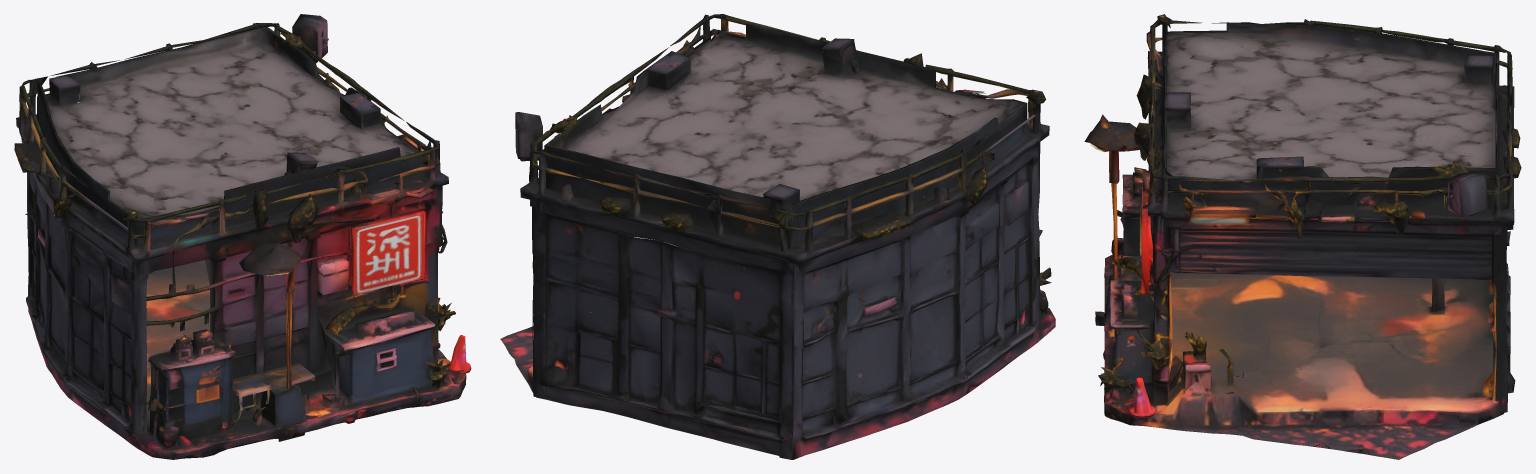
Rendered from 01_garage_shell-clearance.glb.
The picture shows the model from 3 angles, left to right: view 1: azimuth 30°, elevation 25°; view 2: azimuth 150°, elevation 25°; view 3: azimuth 270°, elevation 25°; orthographic projection. The views are drawn at different scales.
Visible parts, largest first — view 1: tripo_node_de47b250-7bce-40ba-b2fe-4a11374a7a72; view 2: tripo_node_de47b250-7bce-40ba-b2fe-4a11374a7a72; view 3: tripo_node_de47b250-7bce-40ba-b2fe-4a11374a7a72.
Part boxes in pixels (x1=…): tripo_node_de47b250-7bce-40ba-b2fe-4a11374a7a72: x1=14, y1=14, x2=471, y2=459; tripo_node_de47b250-7bce-40ba-b2fe-4a11374a7a72: x1=500, y1=14, x2=1055, y2=459; tripo_node_de47b250-7bce-40ba-b2fe-4a11374a7a72: x1=1084, y1=14, x2=1521, y2=459.
Bounding box in the file's own units: 13.42 × 8 × 12.27.
1 material, 1 textured.
